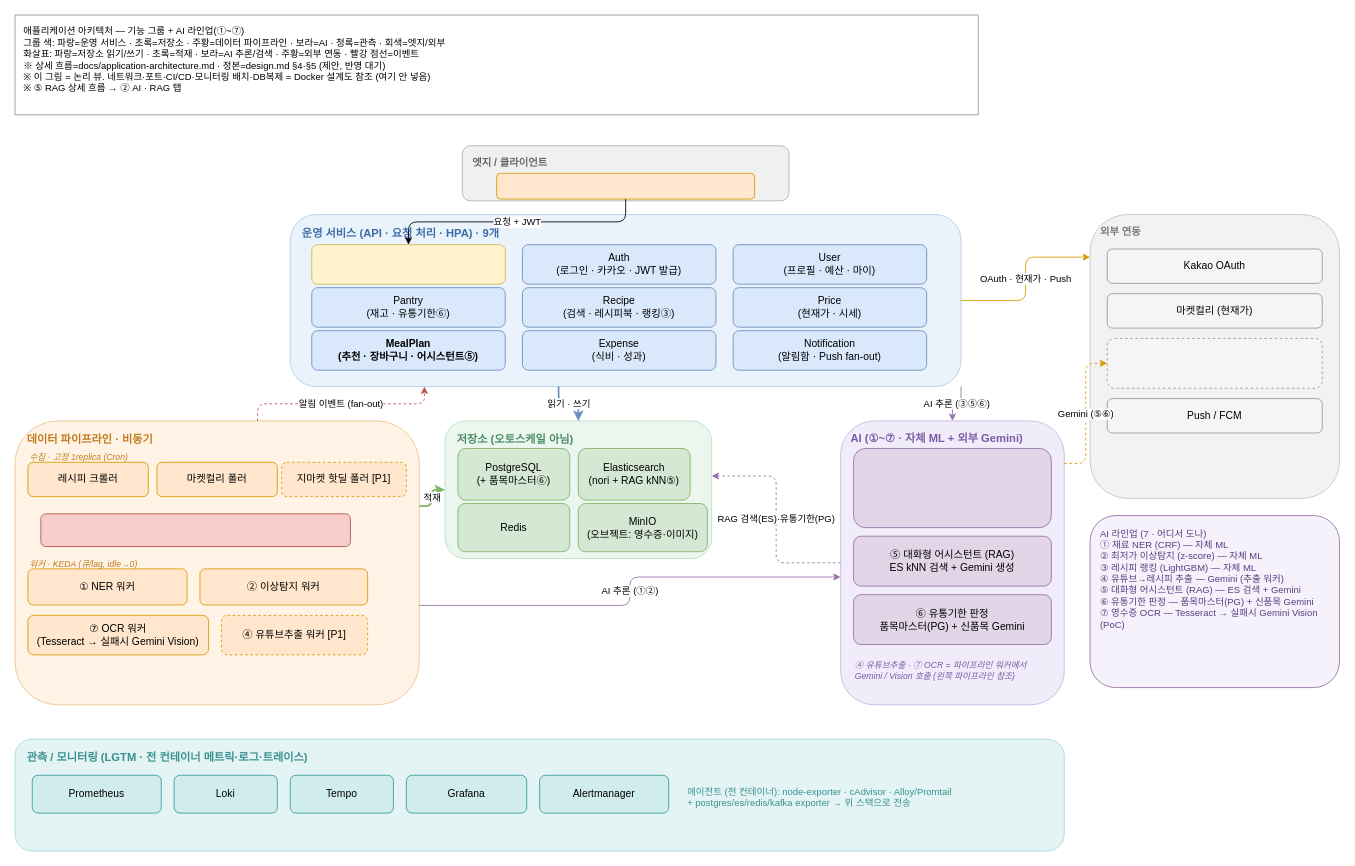
Image size: 1355x866. Some labels were removed from this diagram. The centre of each missing label's shape, as x and y in pixels:
"API Gateway (JWT · 라우팅)" belongs at [408,264].
"Gemini API [P1] ④추출 · ⑤어시스턴트 · ⑥신품목 · ⑦Vision" belongs at [1214,363].
"Kafka (이벤트 버스)" belongs at [195,530].
"ML Serving (자체 · CPU) ① 재료 NER (CRF) ② 최저가 이상탐지 ③ 레시피 랭킹 (LightGBM)" belongs at [952,488].
"웹 / PWA 클라이언트 (React · Vite)" belongs at [625,185].
